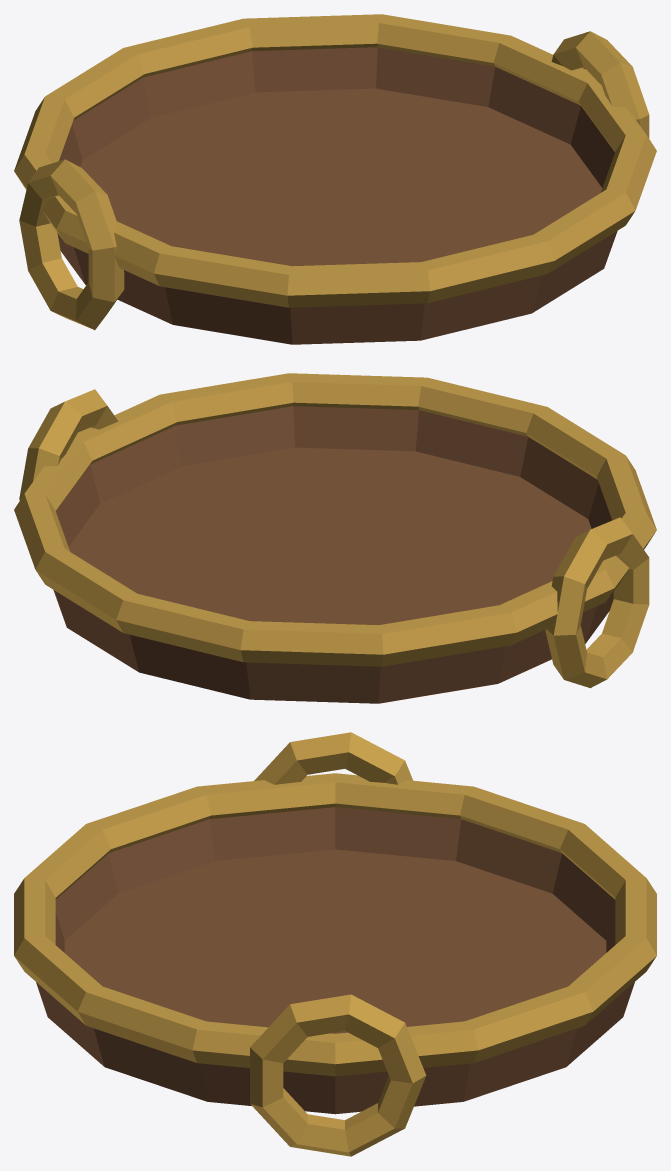
The model's file is SM_LPI_Decor_Tray_01.fbx.
3 renders of one model, top to bottom at view 1: azimuth 30°, elevation 25°; view 2: azimuth 150°, elevation 25°; view 3: azimuth 270°, elevation 25°, orthographic. The views are drawn at different scales.
Parts seen in each view (by area): view 1: SM_LPI_Decor_Tray_01; view 2: SM_LPI_Decor_Tray_01; view 3: SM_LPI_Decor_Tray_01.
Part boxes in pixels (bbox=[...]): SM_LPI_Decor_Tray_01: bbox=[14, 14, 656, 344]; SM_LPI_Decor_Tray_01: bbox=[14, 373, 656, 703]; SM_LPI_Decor_Tray_01: bbox=[14, 732, 656, 1156].
Bounding box in the file's own units: 0.37 × 0.1005 × 0.3607.
